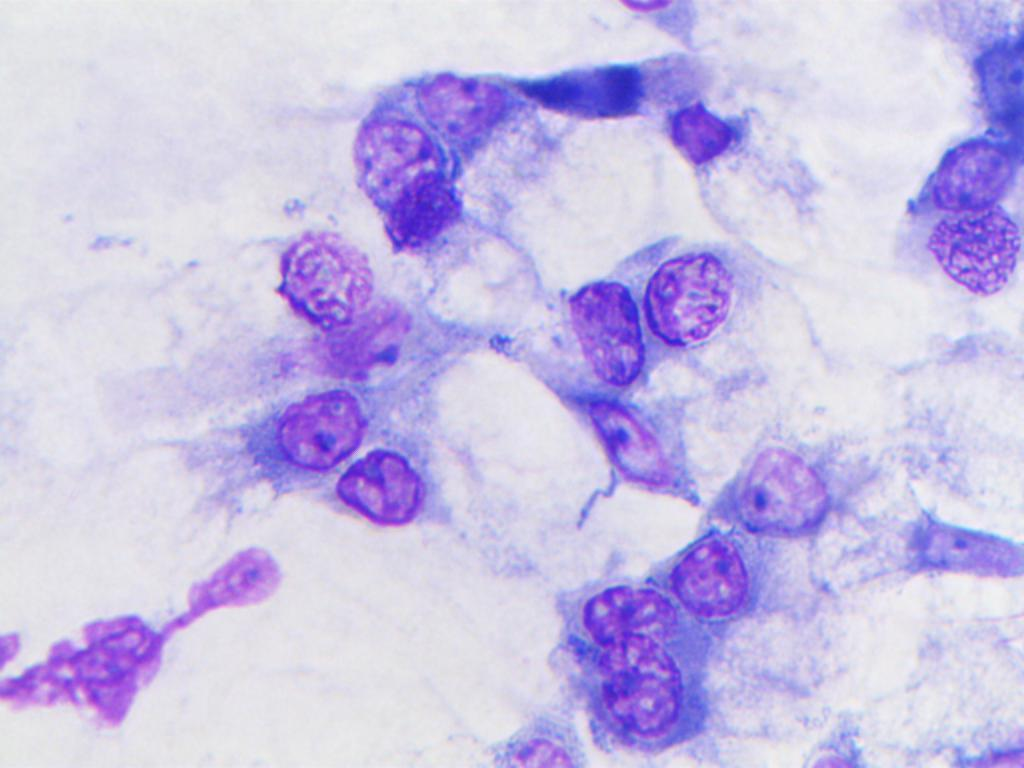artifact: (0, 537, 286, 733)
epithelial: (332, 105, 462, 248), (404, 45, 536, 146), (889, 114, 1020, 214), (892, 208, 1023, 308), (636, 241, 751, 353), (544, 262, 643, 392), (722, 443, 842, 543), (235, 383, 371, 471), (334, 449, 456, 546), (271, 211, 374, 323), (587, 632, 689, 742), (584, 570, 693, 658), (667, 524, 754, 622), (655, 99, 748, 179)
